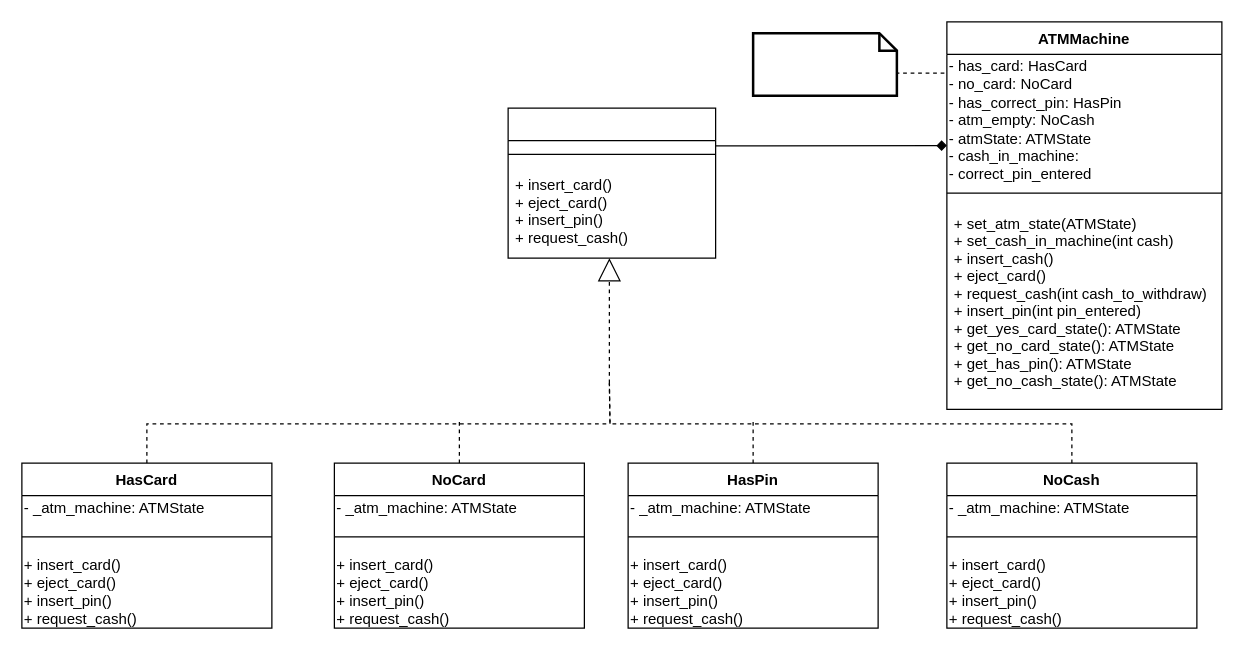
Image size: 1244x651. Some labels were removed from this diagram. Each missing label, with the box of its shape:
ATMState: (507, 107, 716, 258)
State.Request(): (751, 31, 898, 96)
